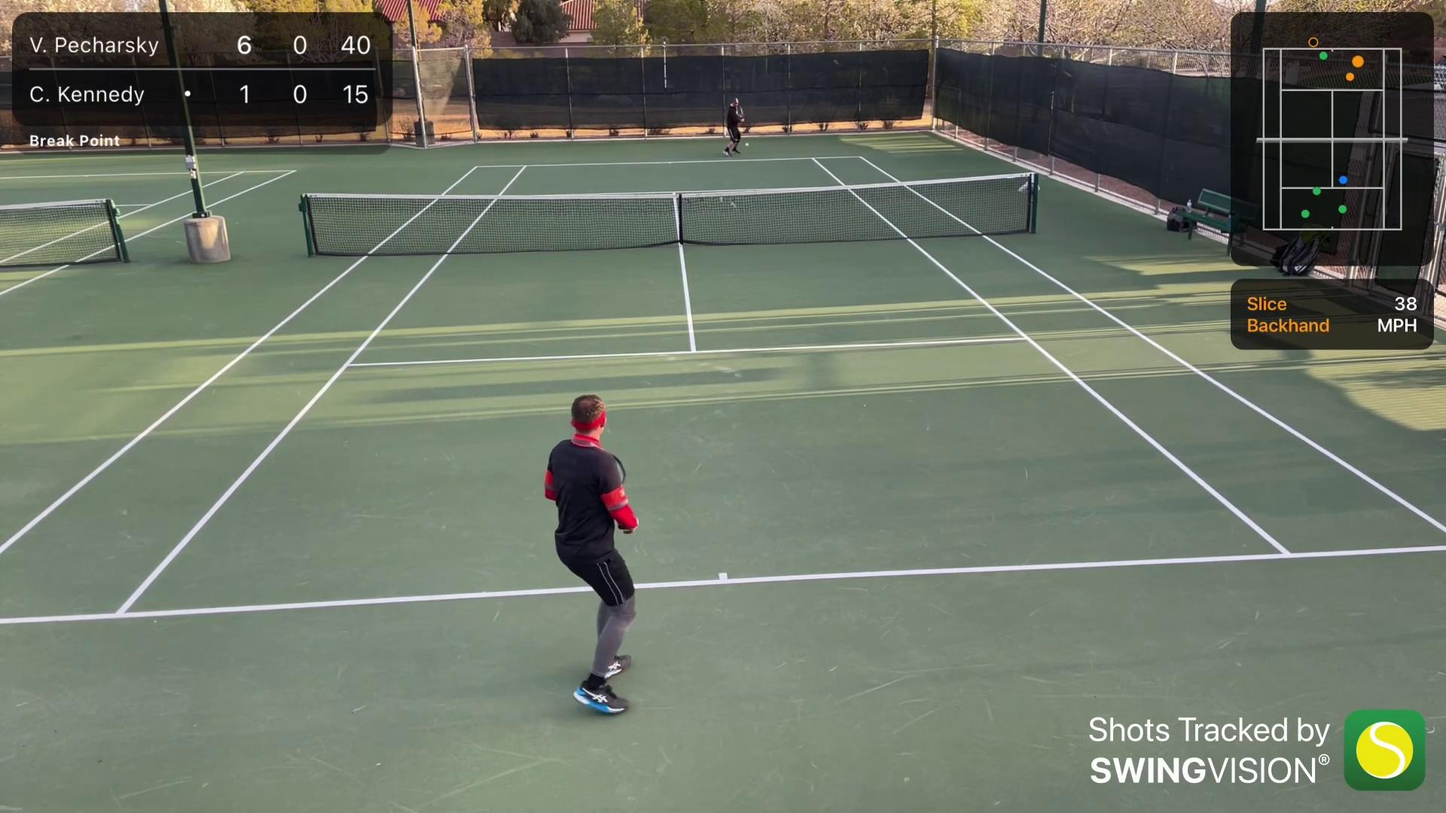ball: (744, 142, 750, 147)
